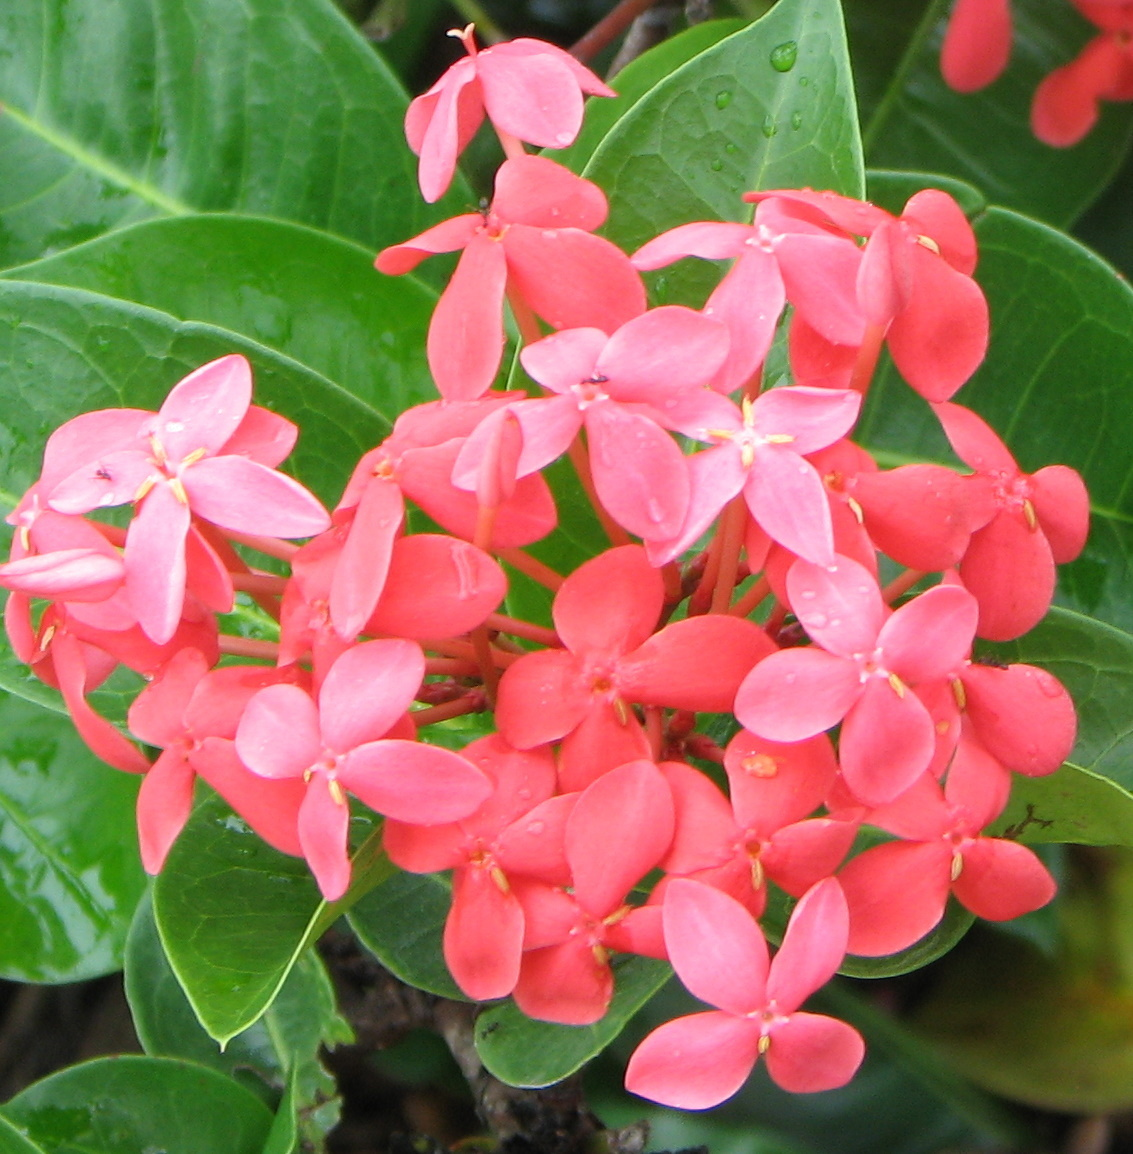ixora: (64, 362, 317, 610), (382, 167, 632, 387), (745, 556, 971, 796), (852, 399, 1086, 627), (465, 324, 720, 521), (262, 656, 482, 878), (641, 884, 850, 1093), (335, 399, 549, 602), (628, 196, 867, 364), (513, 771, 674, 1008), (837, 767, 1055, 939), (653, 387, 848, 569), (129, 663, 289, 863), (405, 23, 609, 173), (854, 197, 982, 395)
